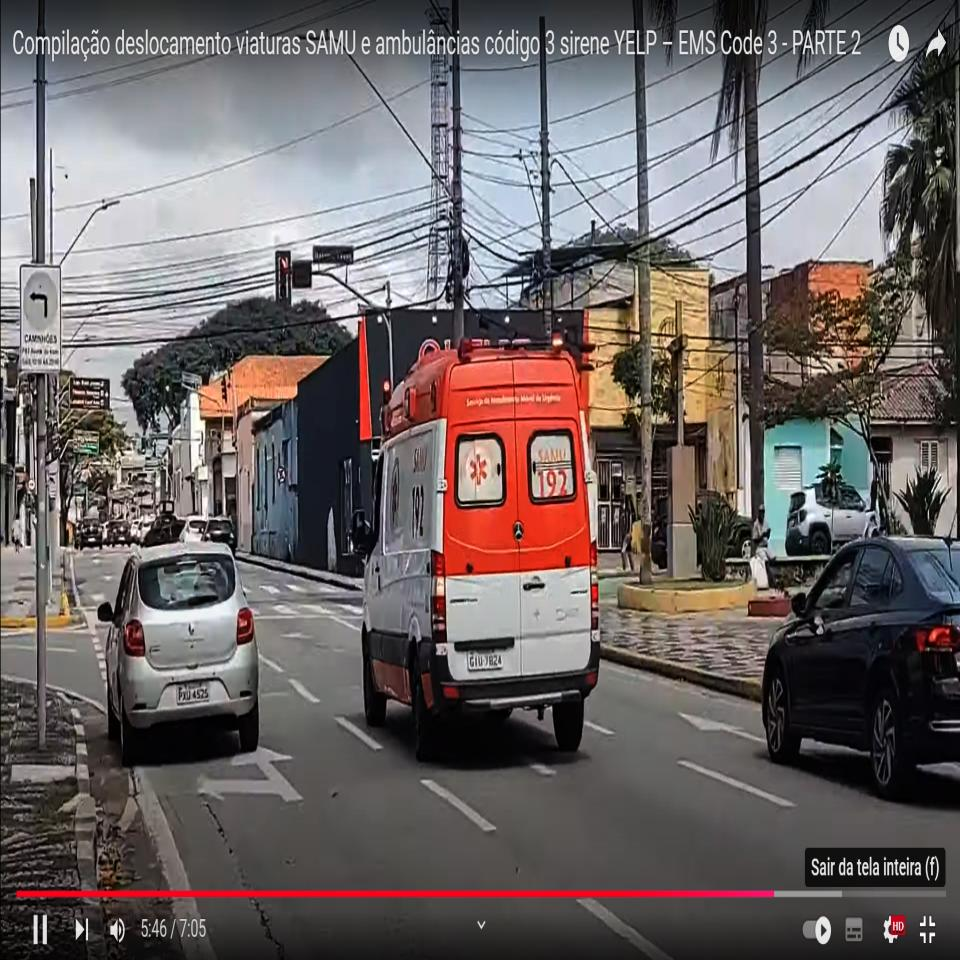bombeiro: (352, 340, 600, 756)
